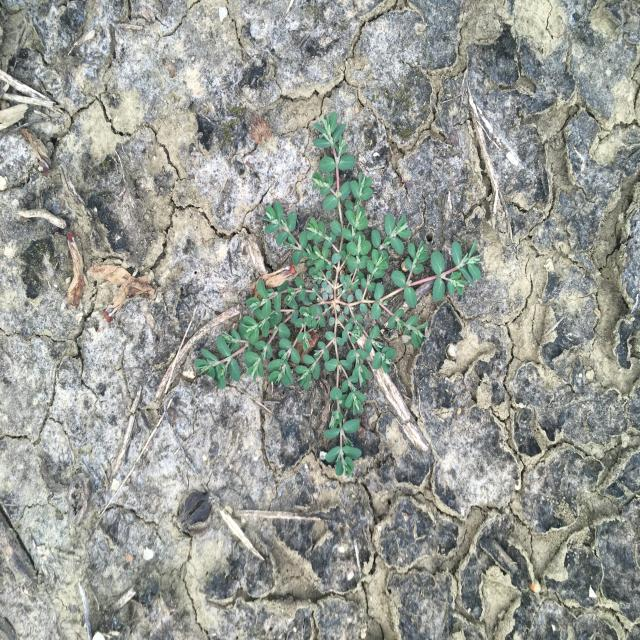SpottedSpurge: (192, 110, 483, 479)
